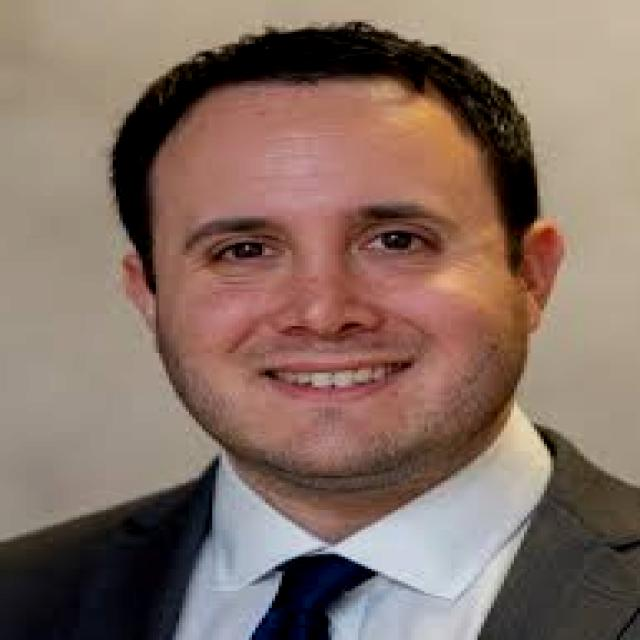normal_face: (138, 38, 550, 480)
